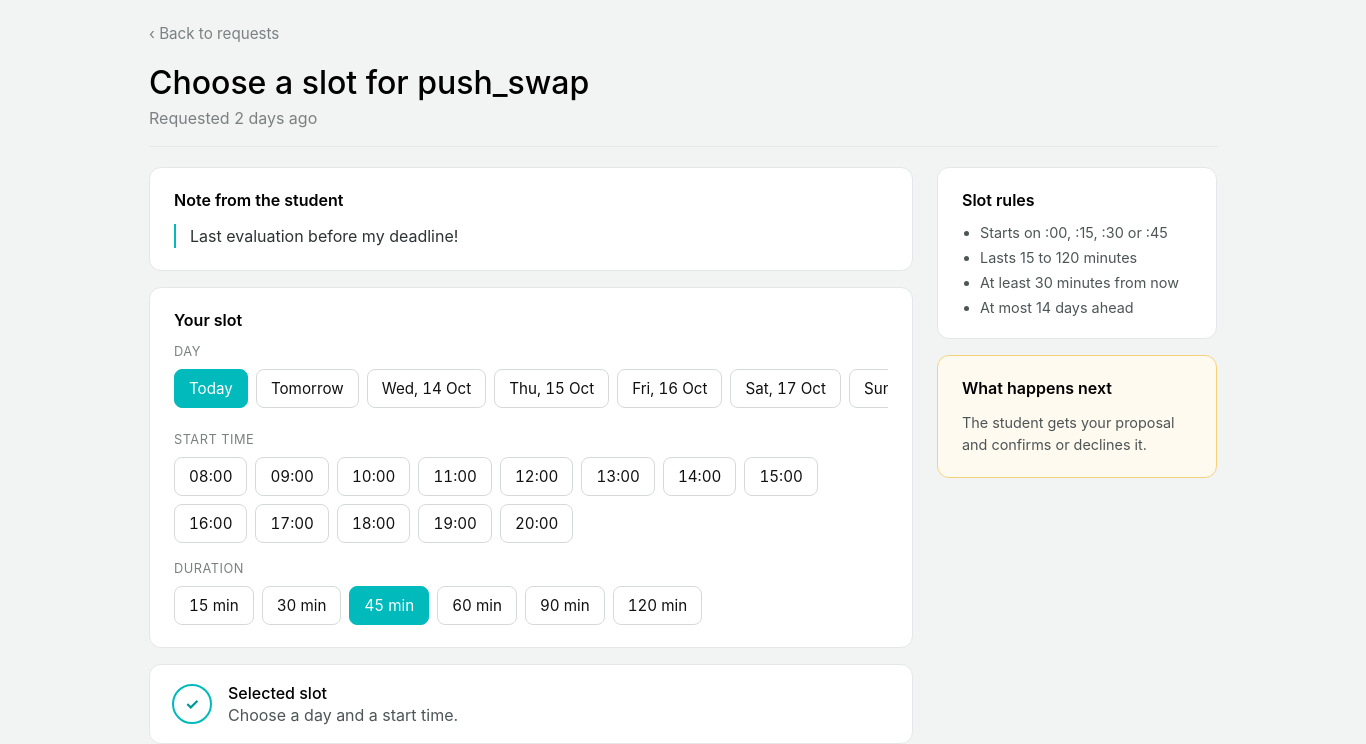
it: PickSlotPage › shows that the request is no longer open when the pick answers 404
Expected: the heading "Choose a slot for push_swap" is shown, x1=149 y1=63 x2=589 y2=102
Click the button "Tomorrow" at (307, 388), box x1=256 y1=369 x2=359 y2=408
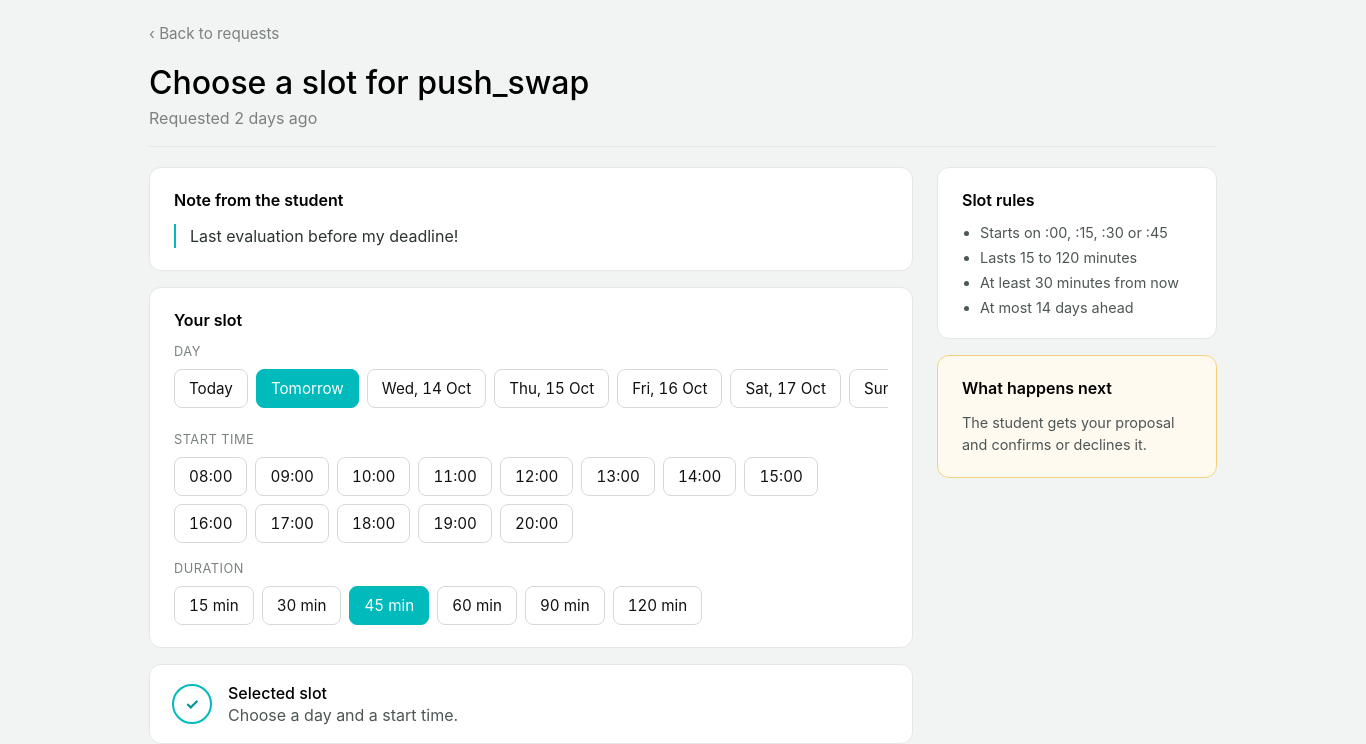
Click the button "10:00" at (374, 476), box x1=337 y1=457 x2=410 y2=496
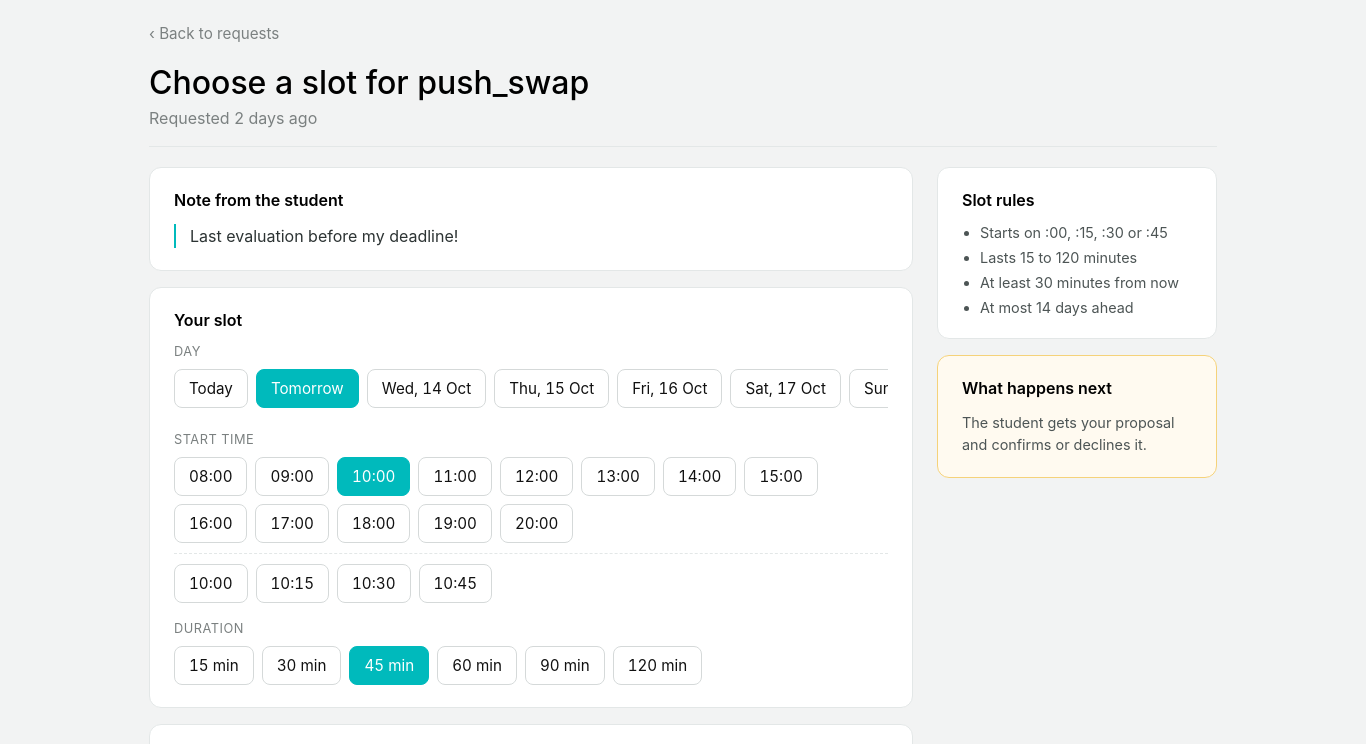
Click the button "10:15" at (292, 584), box x1=256 y1=564 x2=329 y2=603
(page scrolled)
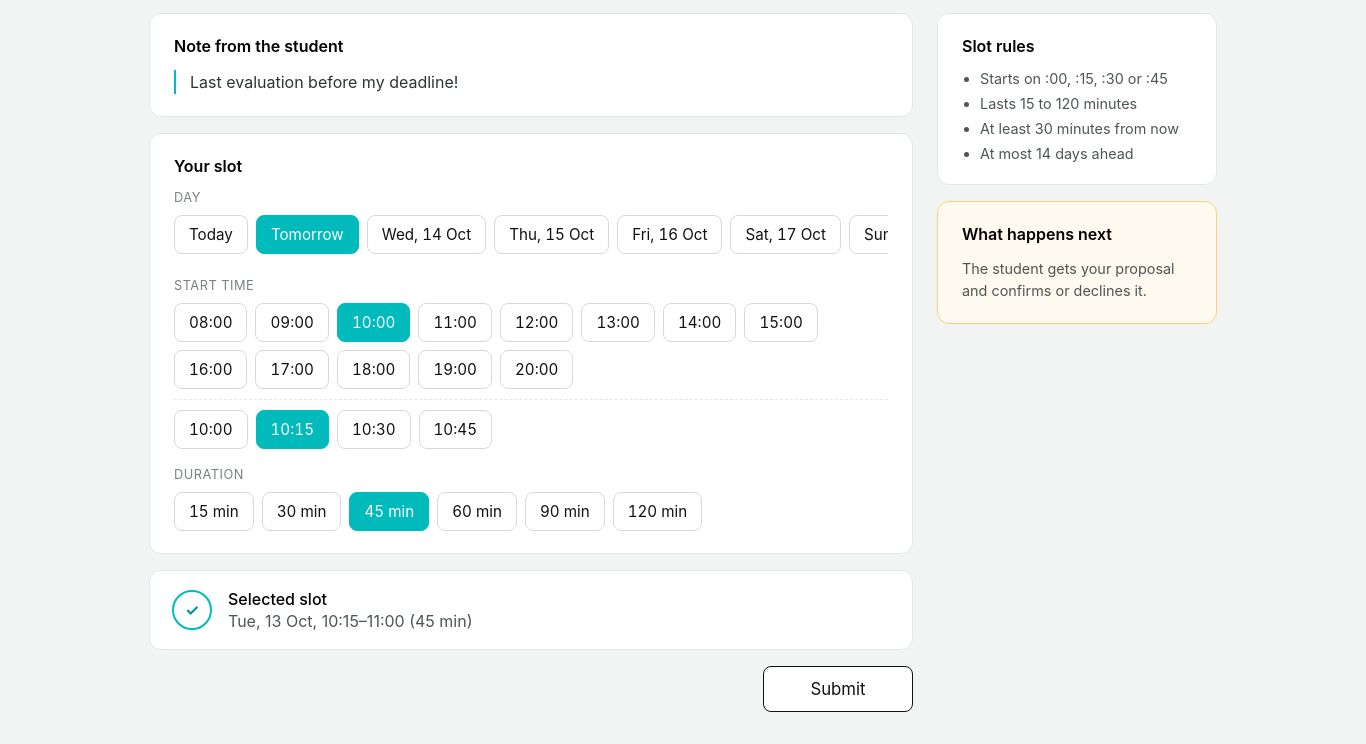
Click the button "Submit" at (838, 689), box x1=763 y1=666 x2=913 y2=712
(page scrolled)
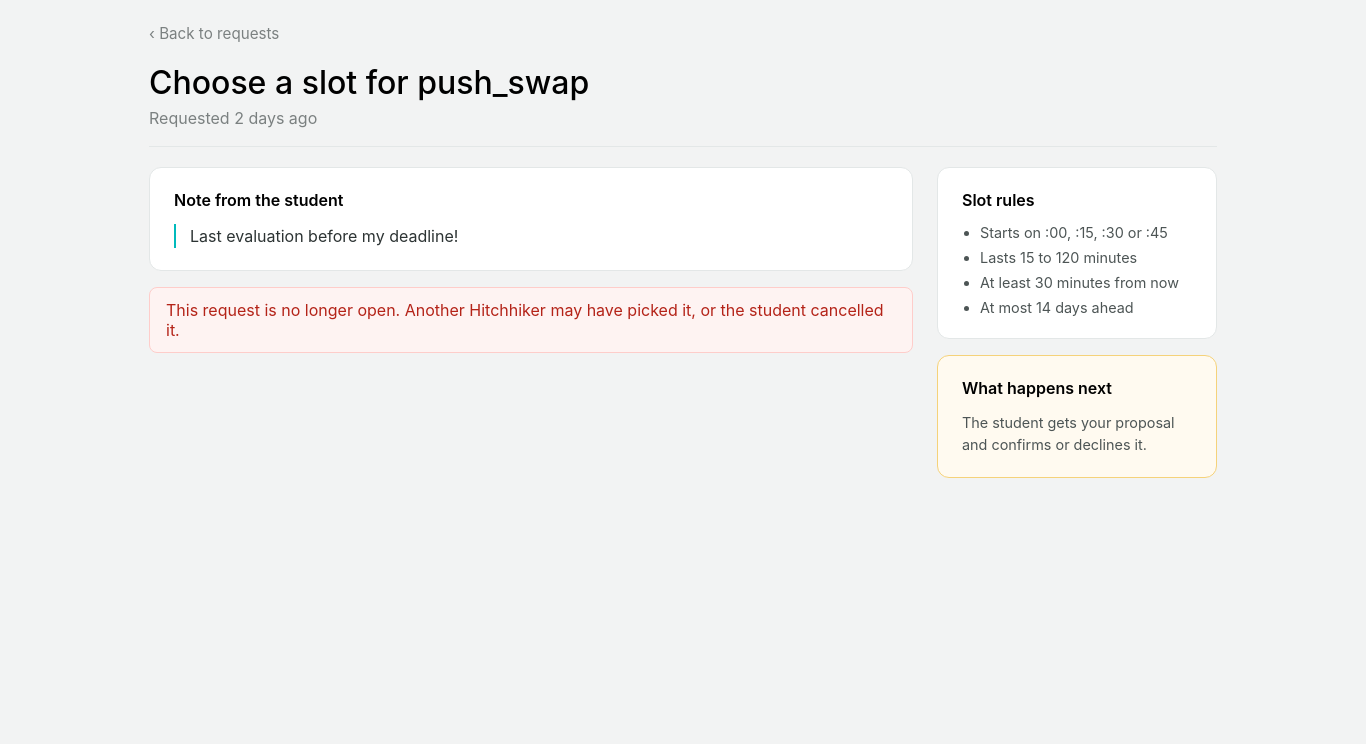
Expected: the message shows "This request is no longer open. Another Hitchhiker may have picked it, or the student cancelled it.", x1=166 y1=300 x2=884 y2=340
Expected: the button "Submit" is gone
